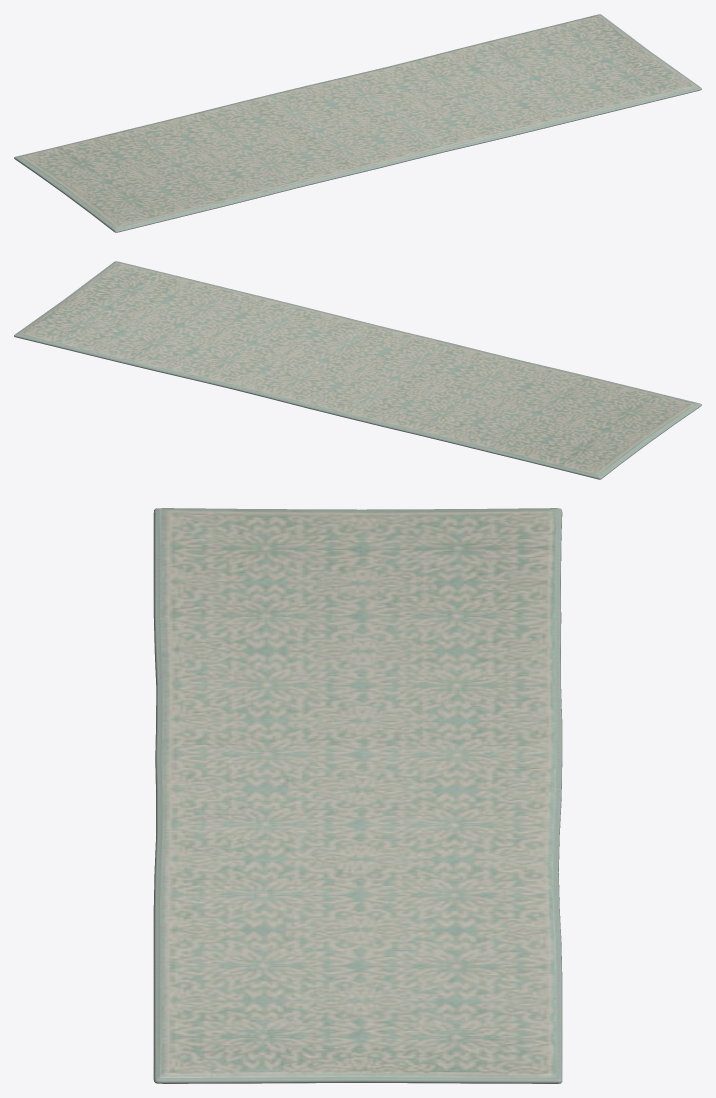
Rendered from B07QB8KHY7.glb.
3 views of the same model, one above another, from view 1: azimuth 30°, elevation 25°; view 2: azimuth 150°, elevation 25°; view 3: azimuth 270°, elevation 25° (orthographic). The views are drawn at different scales.
Visible parts, largest first — view 1: RootNode; view 2: RootNode; view 3: RootNode.
Part boxes in pixels (x1=…): RootNode: x1=14, y1=14, x2=701, y2=232; RootNode: x1=14, y1=261, x2=701, y2=479; RootNode: x1=153, y1=508, x2=562, y2=1083.
Bounding box in the file's own units: 2.2 × 0.0105 × 0.6617.
Materials: 1 (1 with a texture image).
